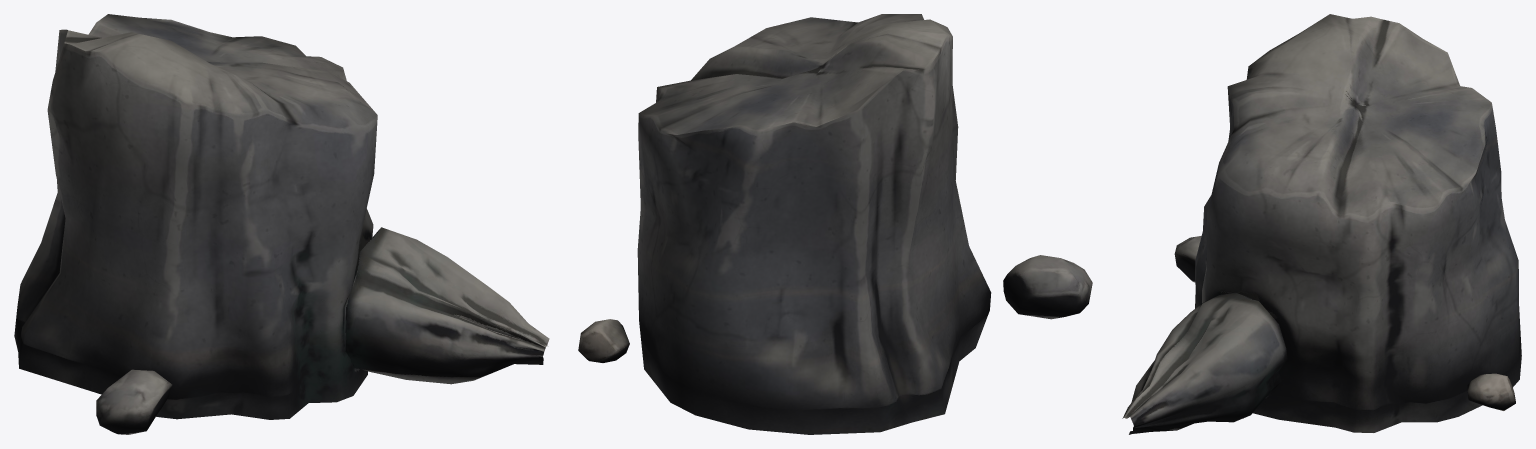
The model's file is cavern_pillar_low.glb.
The picture shows the model from 3 angles, left to right: view 1: azimuth 30°, elevation 25°; view 2: azimuth 150°, elevation 25°; view 3: azimuth 270°, elevation 25°; orthographic projection. The views are drawn at different scales.
Visible parts, largest first — view 1: cavern_pillar_low; view 2: cavern_pillar_low; view 3: cavern_pillar_low.
Boxes of the visible parts, x1,y1,x2,y2 form: cavern_pillar_low: (14, 14, 549, 434); cavern_pillar_low: (578, 14, 1092, 434); cavern_pillar_low: (1122, 14, 1521, 434).
Size of the model in its own units: 1.75 by 1.39 by 1.67.
Materials: 1 (1 with a texture image).
